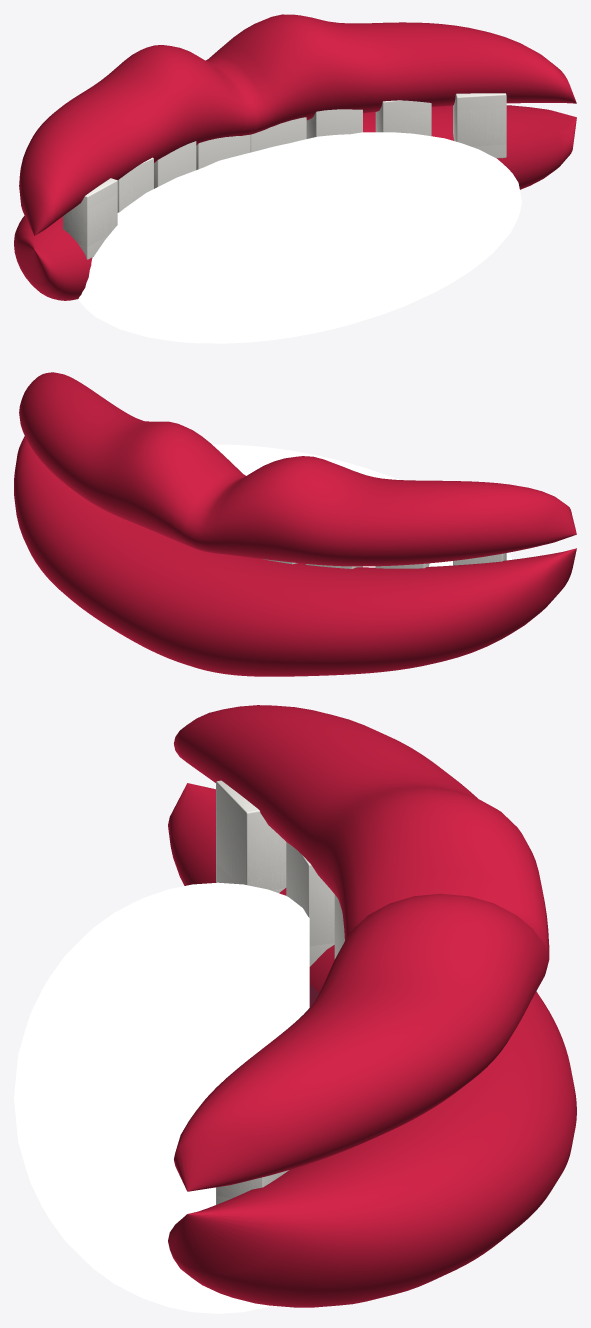
File: big_mouth.glb
3 views of the same model, one above another, from view 1: azimuth 30°, elevation 25°; view 2: azimuth 150°, elevation 25°; view 3: azimuth 270°, elevation 25° (orthographic). The views are drawn at different scales.
Parts seen in each view (by area): view 1: Glow, UpperLip, LowerLip, LowerTooth_7, LowerTooth_0, LowerTooth_6, UpperTooth_0, UpperTooth_7, LowerTooth_3, LowerTooth_5, LowerTooth_2, LowerTooth_4 (+2 smaller); view 2: LowerLip, UpperLip, Glow; view 3: UpperLip, Glow, LowerLip, LowerTooth_0, LowerTooth_1, UpperTooth_0.
Part boxes in pixels (<box>): Glow: <box>78,132,521,343</box>; UpperLip: <box>19,14,576,235</box>; LowerLip: <box>14,105,576,300</box>; LowerTooth_7: <box>453,93,506,146</box>; LowerTooth_0: <box>63,178,117,246</box>; LowerTooth_6: <box>375,100,431,136</box>; UpperTooth_0: <box>63,194,117,259</box>; UpperTooth_7: <box>453,105,506,158</box>; LowerTooth_3: <box>196,134,250,169</box>; LowerTooth_5: <box>312,109,362,136</box>; LowerTooth_2: <box>154,141,196,188</box>; LowerTooth_4: <box>250,117,306,152</box>; LowerLip: <box>14,436,576,676</box>; UpperLip: <box>19,372,576,566</box>; Glow: <box>212,444,512,567</box>; UpperLip: <box>174,705,549,1191</box>; Glow: <box>14,882,309,1313</box>; LowerLip: <box>168,783,576,1307</box>; LowerTooth_0: <box>216,780,286,890</box>; LowerTooth_1: <box>286,842,334,946</box>; UpperTooth_0: <box>216,803,286,892</box>.
Bounding box in the file's own units: 1 × 0.4101 × 0.552.
